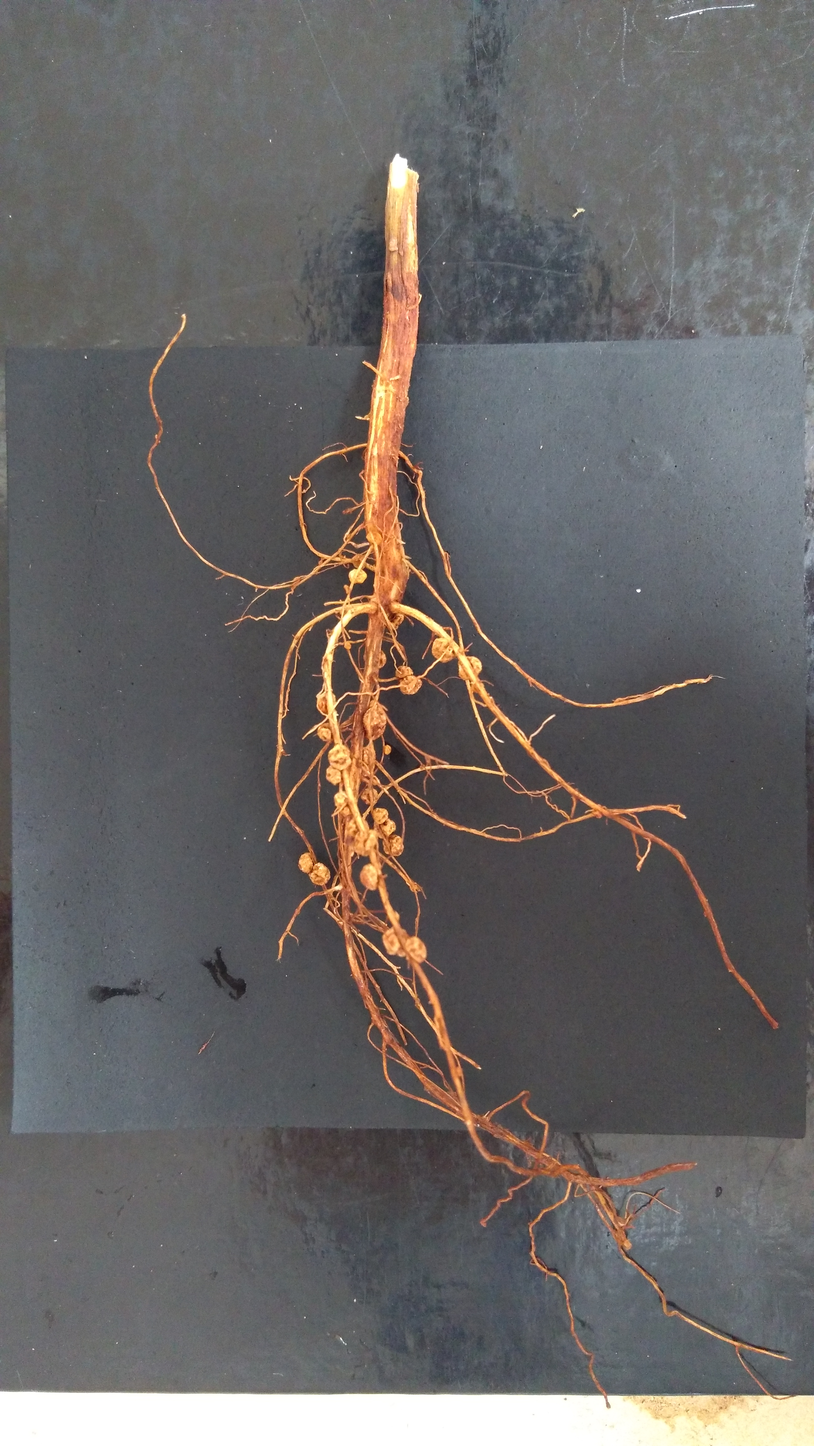nodule: (362, 699, 386, 740), (383, 925, 409, 957), (345, 815, 369, 847), (353, 829, 379, 856), (431, 637, 457, 662), (405, 936, 428, 964), (458, 655, 482, 681), (328, 745, 352, 771), (359, 863, 380, 891), (309, 862, 331, 886), (373, 817, 396, 839), (382, 834, 404, 857), (382, 578, 403, 601), (317, 690, 336, 714), (400, 675, 422, 695), (387, 542, 405, 564), (297, 851, 314, 874), (325, 765, 342, 786), (360, 786, 377, 805), (333, 790, 350, 809), (317, 723, 333, 743), (359, 758, 375, 778), (348, 568, 367, 584), (362, 744, 375, 764), (373, 807, 388, 824), (395, 665, 413, 678), (366, 531, 382, 545), (351, 554, 365, 570), (470, 681, 484, 694), (612, 1215, 628, 1226), (339, 804, 351, 818), (378, 650, 386, 668), (369, 774, 380, 787), (622, 1238, 633, 1251), (393, 613, 404, 625), (408, 880, 420, 891), (592, 808, 603, 819), (369, 593, 381, 603), (386, 621, 399, 630), (383, 744, 392, 755), (455, 1066, 463, 1077), (392, 910, 400, 920), (343, 584, 350, 594), (344, 641, 351, 650), (339, 608, 346, 615), (318, 560, 324, 566), (419, 764, 425, 770), (364, 414, 370, 420), (341, 509, 346, 515)
